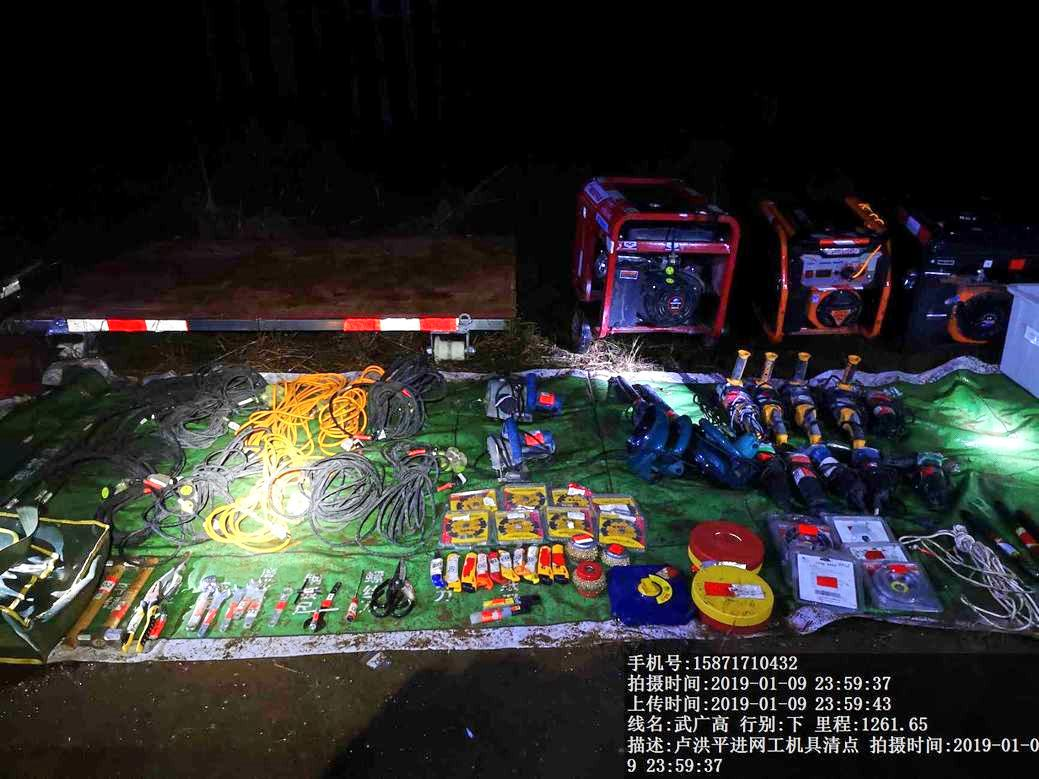DJ: (563, 165, 730, 352), (744, 168, 902, 346), (887, 183, 1022, 341)
DX: (374, 439, 464, 543), (299, 436, 378, 536), (318, 366, 383, 444)
DZ: (829, 358, 879, 436), (750, 351, 791, 419), (787, 352, 826, 418)
GFJ: (606, 358, 667, 471), (650, 386, 716, 476)
GJB: (1, 526, 114, 647)
JC: (685, 566, 783, 638), (607, 561, 694, 629), (684, 517, 771, 568)
T: (1007, 275, 1039, 391)
